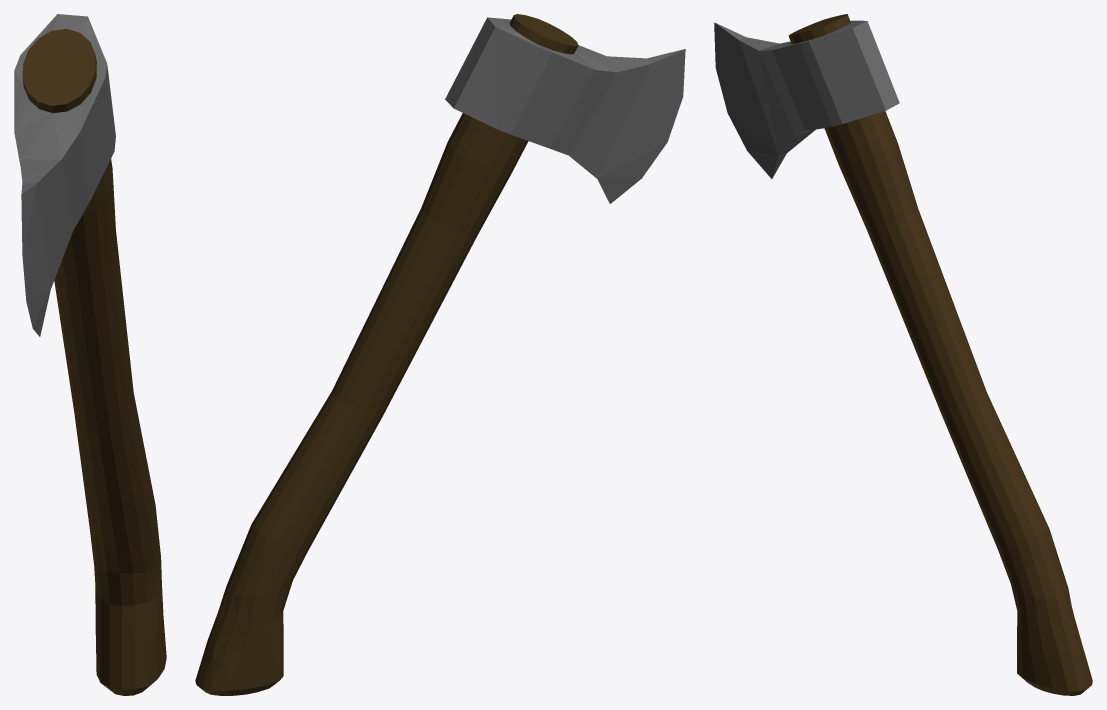
Rendered from Axe.fbx.
3 views of the same model, side by side, from view 1: azimuth 30°, elevation 25°; view 2: azimuth 150°, elevation 25°; view 3: azimuth 270°, elevation 25° (orthographic). The views are drawn at different scales.
Visible parts, largest first — view 1: Cylinder; view 2: Cylinder; view 3: Cylinder.
Part boxes in pixels (x1,y1,x2,y2): Cylinder: [14, 14, 166, 695]; Cylinder: [195, 14, 685, 695]; Cylinder: [714, 14, 1092, 695].
Bounding box in the file's own units: 105 × 211 × 122.
